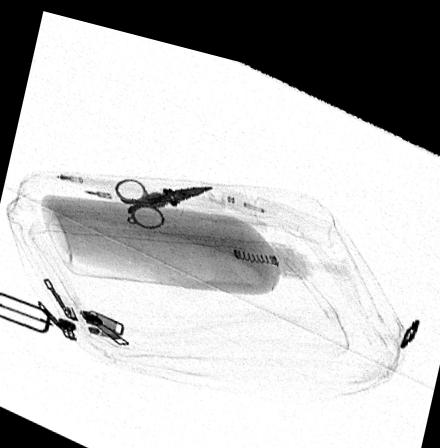Scissors: (112, 170, 213, 223)
